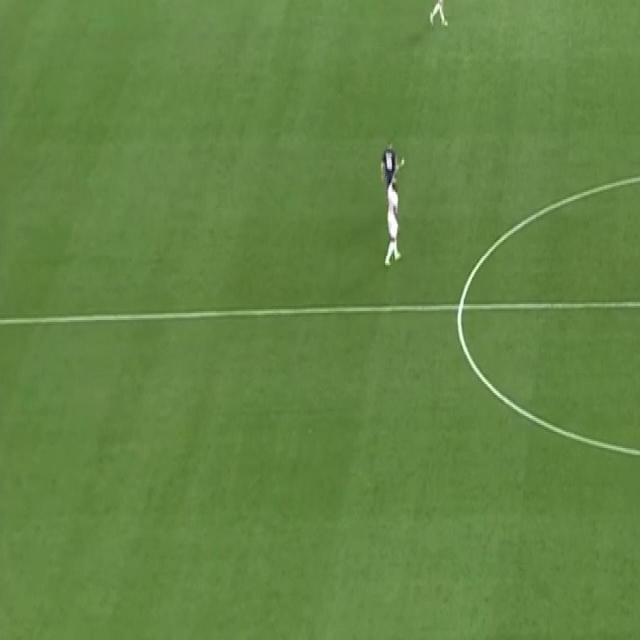player-white: (382, 146, 408, 272), (378, 138, 408, 195), (427, 0, 456, 36)
